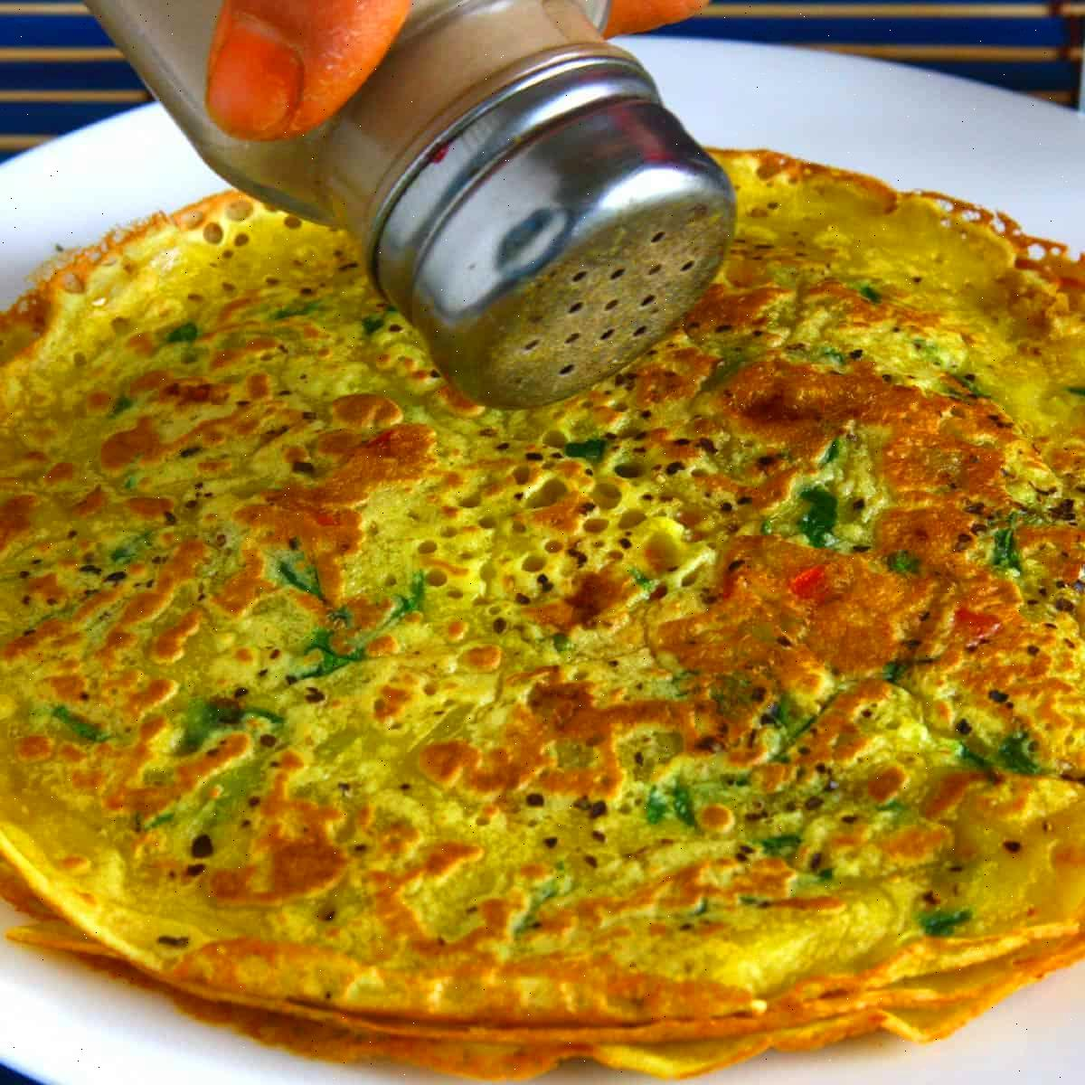omelette: (61, 284, 1085, 1079)
